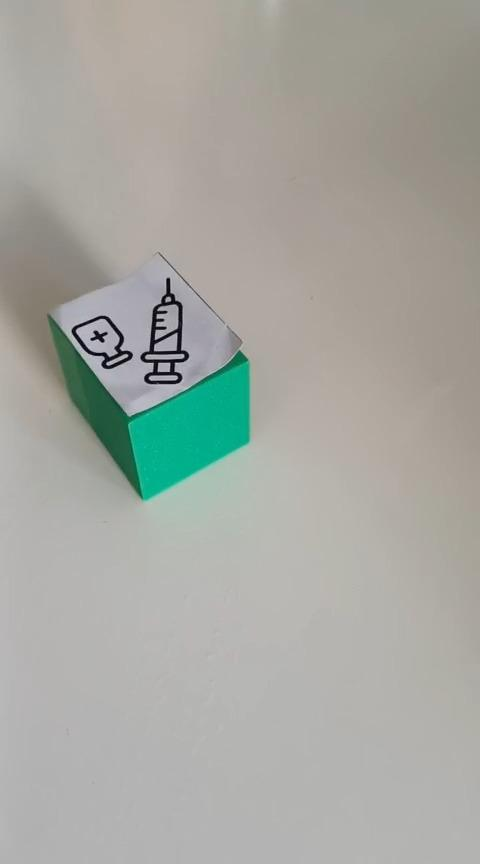antiseptic cream: (45, 250, 251, 501)
